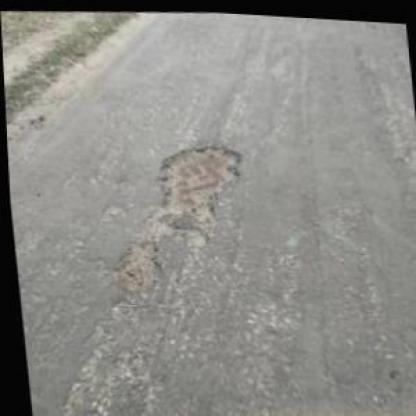pothole: (150, 134, 245, 220), (102, 236, 160, 291)
